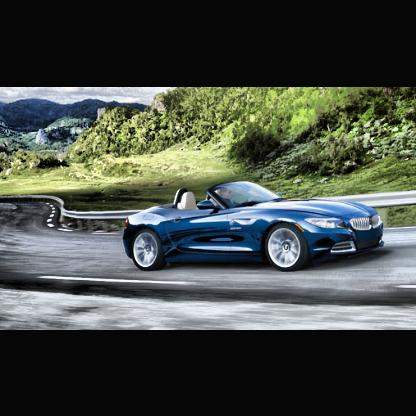BMW Z4 Convertible 2012: (125, 182, 385, 273)
